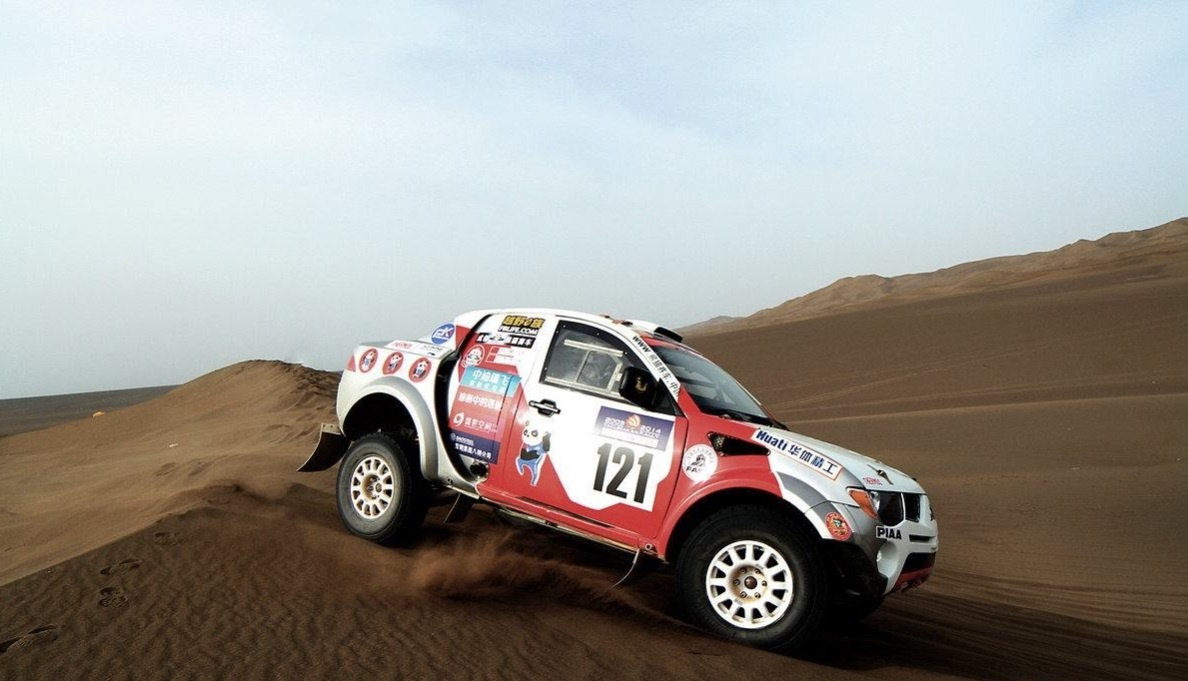racing car: (320, 285, 935, 644)
